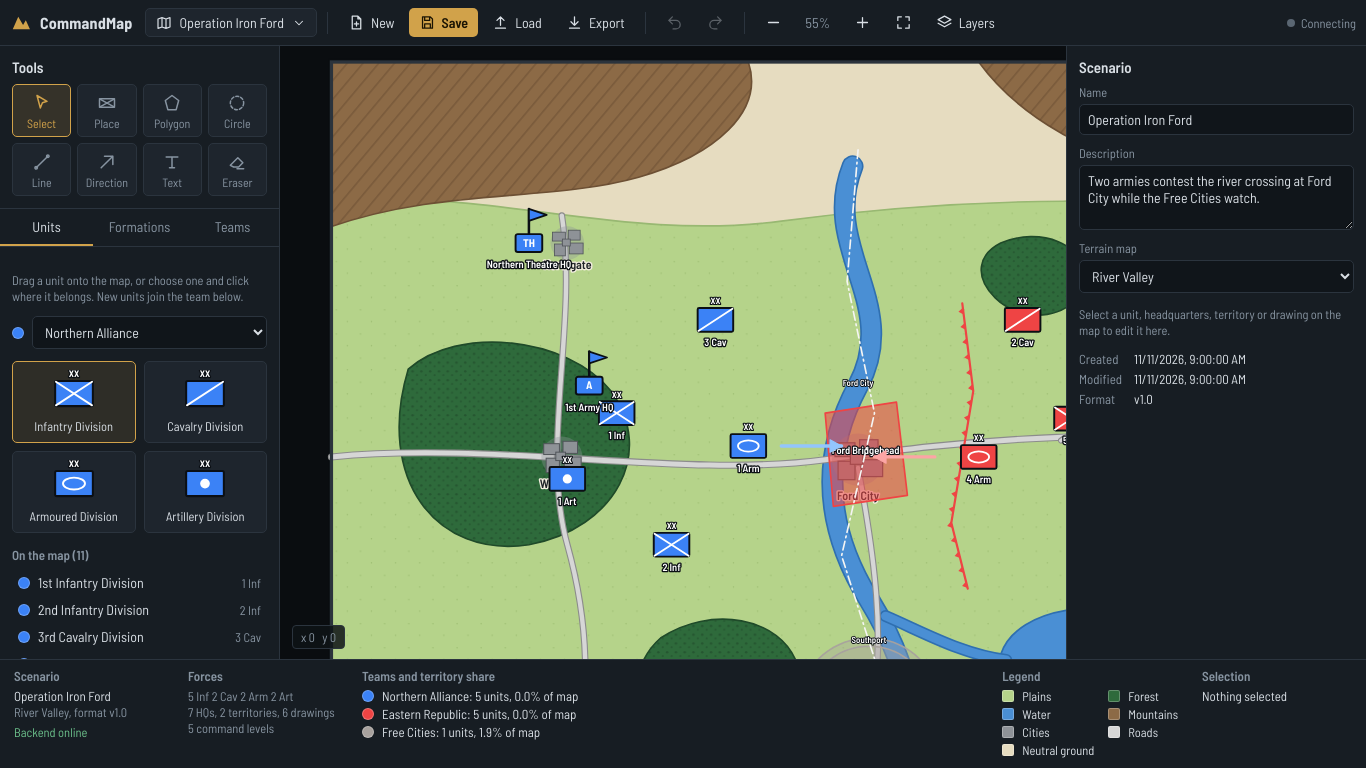
Test case: App › opens the new scenario dialog
What coordinates should you click on to do the following:
click the button titled "New scenario"
I would click on:
 (371, 22)
Its box is [338,8,404,37].
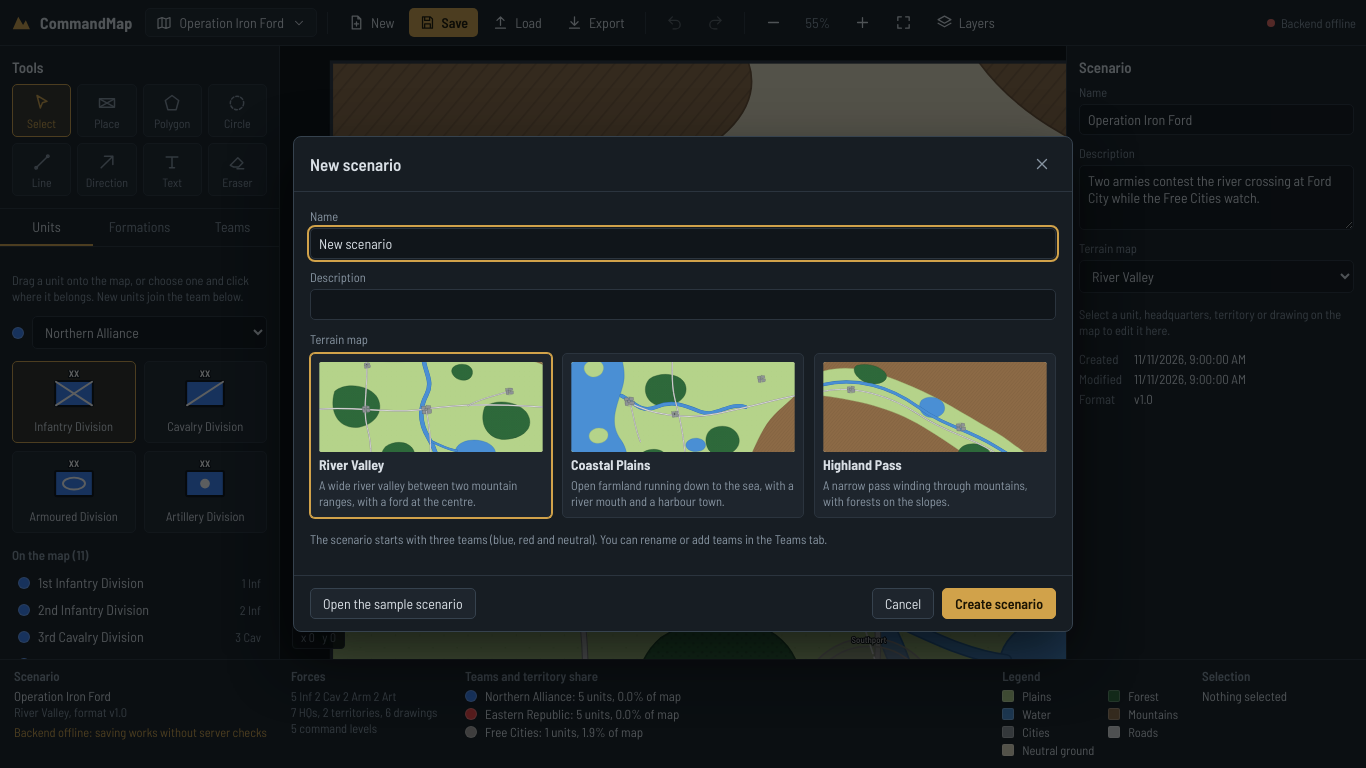
Result: the button "Create scenario" is shown at [942,588,1056,619]
